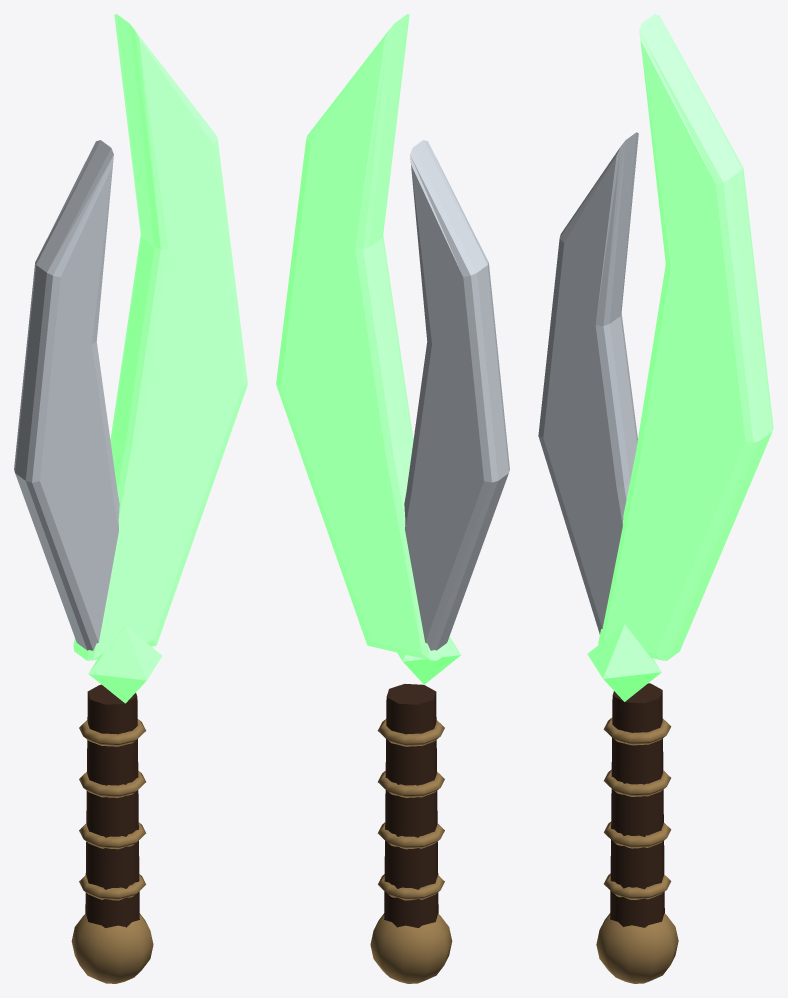
File: dagger_f3_614db314.glb
The picture shows the model from 3 angles, left to right: view 1: azimuth 30°, elevation 25°; view 2: azimuth 150°, elevation 25°; view 3: azimuth 330°, elevation 25°; orthographic projection.
Parts seen in each view (by area): view 1: m0_, m1_ow80_, m3_ow80_, m4_ow80_, m2_; view 2: m0_, m1_ow80_, m3_ow80_, m4_ow80_, m2_; view 3: m0_, m1_ow80_, m3_ow80_, m4_ow80_, m2_.
Boxes of the visible parts, box(x1,y1,x2,y2) form: m0_: box(73, 14, 247, 660); m1_ow80_: box(14, 140, 119, 650); m3_ow80_: box(85, 684, 139, 927); m4_ow80_: box(71, 719, 153, 983); m2_: box(88, 626, 162, 703); m0_: box(276, 14, 450, 660); m1_ow80_: box(404, 140, 509, 650); m3_ow80_: box(384, 684, 438, 927); m4_ow80_: box(370, 719, 452, 983); m2_: box(397, 636, 460, 684); m0_: box(598, 14, 773, 660); m1_ow80_: box(538, 132, 638, 634); m3_ow80_: box(610, 683, 664, 927); m4_ow80_: box(596, 717, 678, 983); m2_: box(587, 624, 661, 701).
Size of the model in its own units: 0.2965 by 1.23 by 0.1257.
